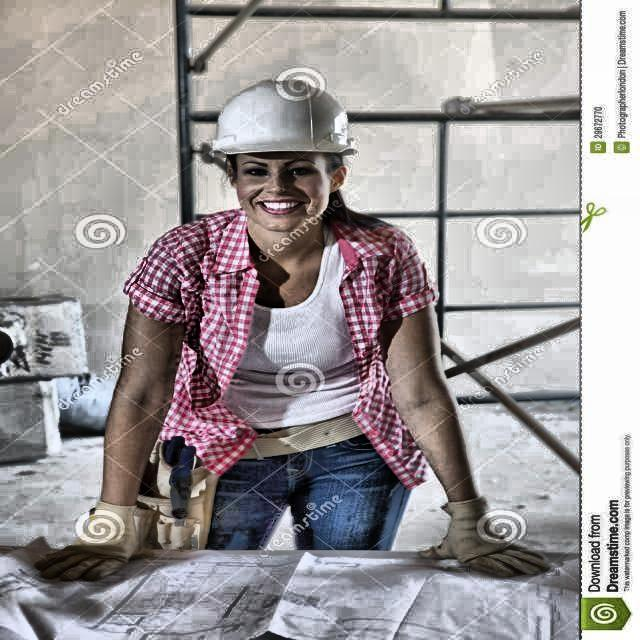person: (60, 68, 532, 596)
